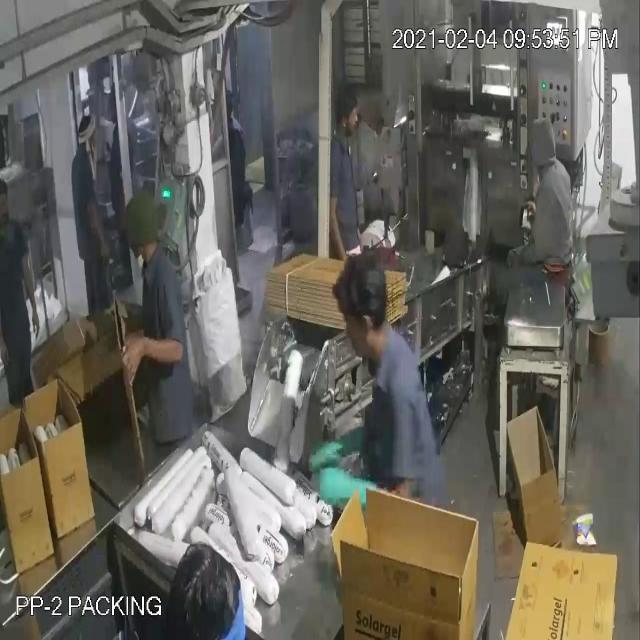No_Gloves: (26, 54, 347, 497)
